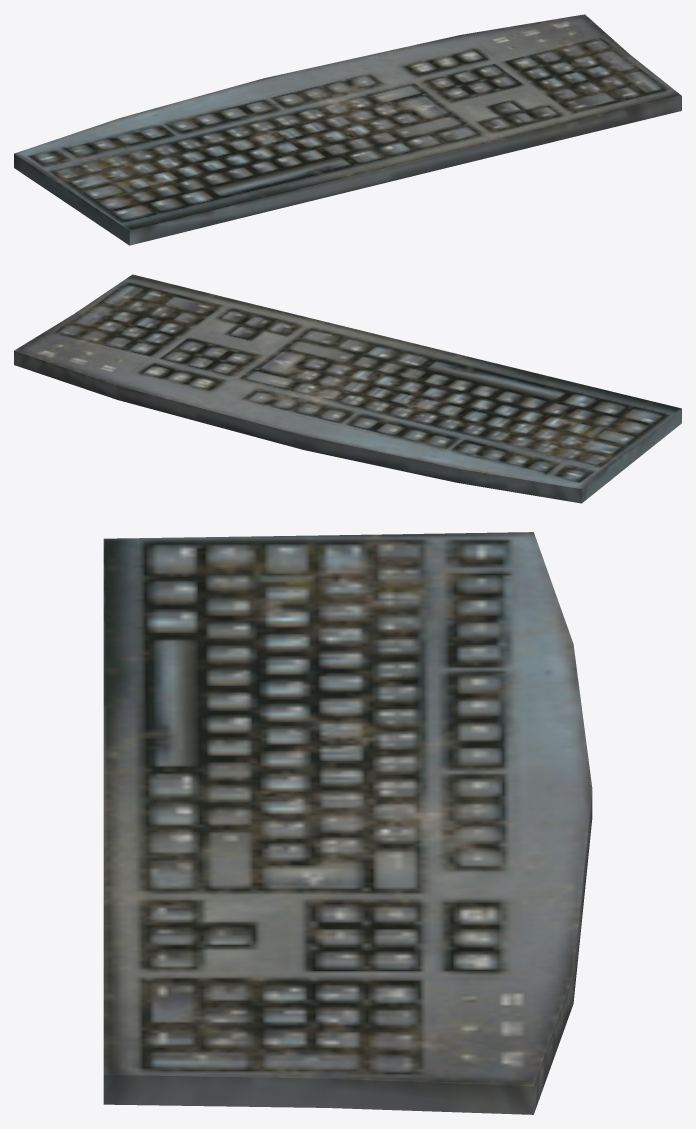
Rendered from Keyboard.FBX.
3 renders of one model, top to bottom at view 1: azimuth 30°, elevation 25°; view 2: azimuth 150°, elevation 25°; view 3: azimuth 270°, elevation 25°, orthographic. The views are drawn at different scales.
Parts seen in each view (by area): view 1: Keyboard; view 2: Keyboard; view 3: Keyboard.
Part boxes in pixels (x1,y1,x2,y2): Keyboard: (14,14,681,245); Keyboard: (14,274,681,503); Keyboard: (103,532,592,1114).
Bounding box in the file's own units: 86.32 × 2.16 × 32.18.
